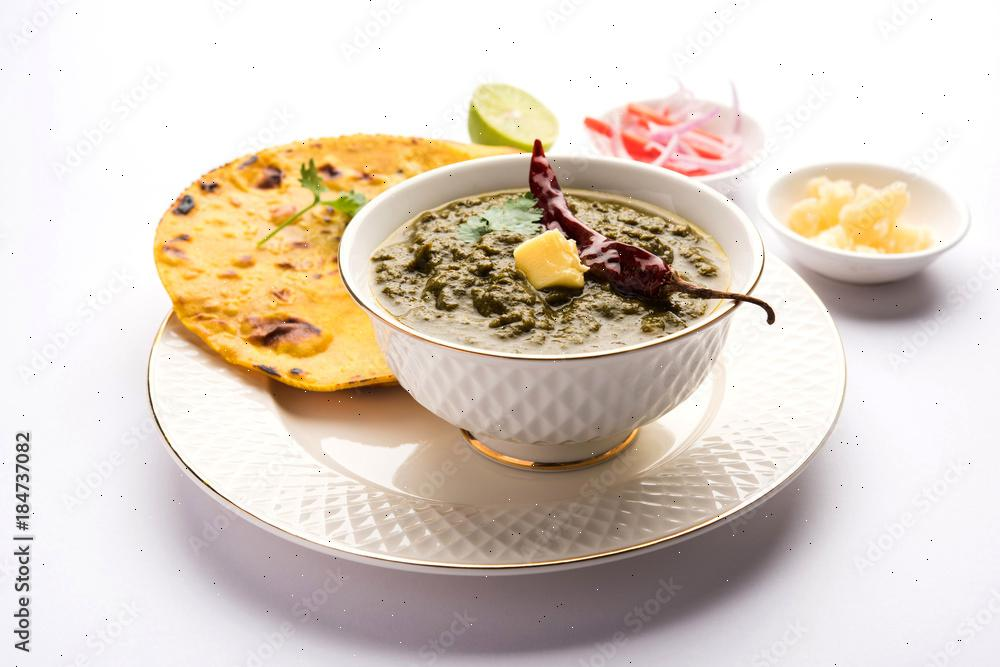saag: (375, 192, 741, 351)
